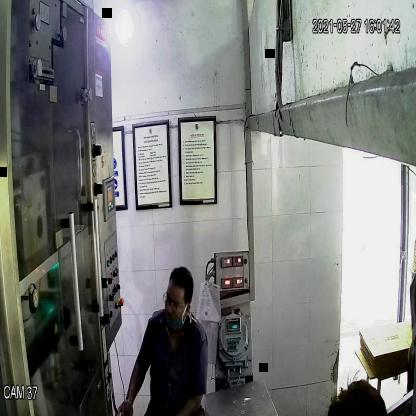goggles: (161, 285, 189, 314)
